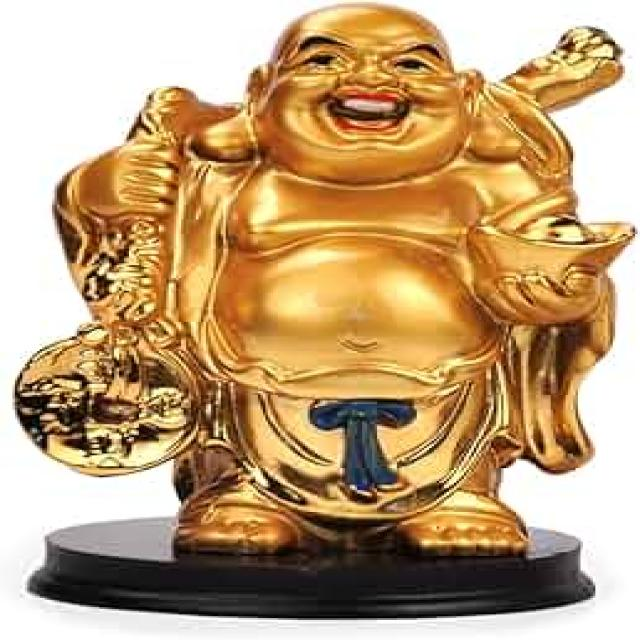Smiling Buddha: (99, 2, 593, 442)
